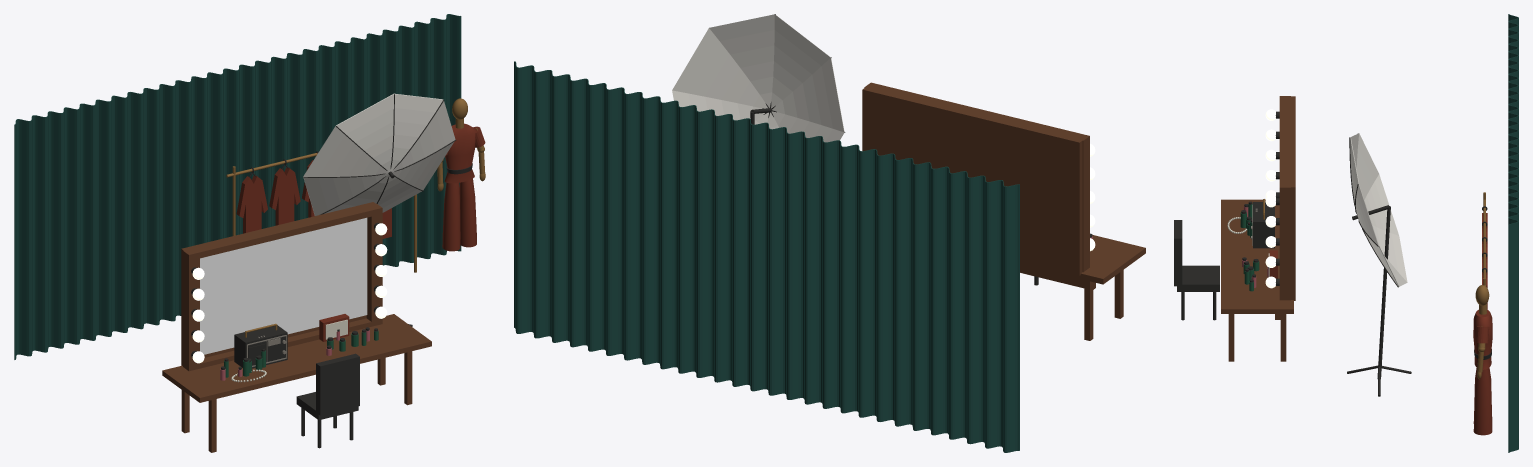
3 renders of one model, left to right at view 1: azimuth 30°, elevation 25°; view 2: azimuth 150°, elevation 25°; view 3: azimuth 270°, elevation 25°, orthographic. The views are drawn at different scales.
Visible parts, largest first — view 1: MIRROR_surface, UMBRELLA_finite_canopy_proxy, TABLE_top, CURTAIN_fold_proxy_0, CURTAIN_fold_proxy_1, CURTAIN_fold_proxy_5, CURTAIN_fold_proxy_4, CURTAIN_fold_proxy_7, CURTAIN_fold_proxy_8, CURTAIN_fold_proxy_2, CURTAIN_fold_proxy_3, CURTAIN_fold_proxy_6 (+34 smaller); view 2: MIRROR_backboard_inferred, UMBRELLA_finite_canopy_proxy, CURTAIN_fold_proxy_4, CURTAIN_fold_proxy_19, CURTAIN_fold_proxy_14, CURTAIN_fold_proxy_24, CURTAIN_fold_proxy_6, CURTAIN_fold_proxy_2, CURTAIN_fold_proxy_1, CURTAIN_fold_proxy_5, CURTAIN_fold_proxy_16, CURTAIN_fold_proxy_26 (+21 smaller); view 3: TABLE_top, UMBRELLA_finite_canopy_proxy, CURTAIN_fold_proxy_27, MIRROR_frame_1, MANNEQUIN_red_bifurcated_lower_proxy_1, CHAIR_seat_proxy, MIRROR_backboard_inferred, MIRROR_frame_horizontal_2.31, COSMETIC_case_body, MANNEQUIN_red_upper_clothing_proxy, UMBRELLA_stand_inferred, CHAIR_back_proxy.
Boxes of the visible parts, box(x1,y1,x2,y2) form: MIRROR_surface: box(200, 217, 367, 354); UMBRELLA_finite_canopy_proxy: box(303, 93, 455, 215); TABLE_top: box(162, 314, 431, 402); CURTAIN_fold_proxy_0: box(14, 119, 30, 359); CURTAIN_fold_proxy_1: box(30, 115, 46, 355); CURTAIN_fold_proxy_5: box(94, 99, 110, 340); CURTAIN_fold_proxy_4: box(78, 103, 94, 344); CURTAIN_fold_proxy_7: box(126, 92, 142, 332); CURTAIN_fold_proxy_8: box(142, 88, 158, 328); CURTAIN_fold_proxy_2: box(46, 111, 62, 351); CURTAIN_fold_proxy_3: box(62, 107, 78, 347); CURTAIN_fold_proxy_6: box(110, 95, 126, 336); MIRROR_backboard_inferred: box(862, 87, 1082, 275); UMBRELLA_finite_canopy_proxy: box(672, 14, 844, 142); CURTAIN_fold_proxy_4: box(929, 162, 947, 435); CURTAIN_fold_proxy_19: box(658, 96, 676, 369); CURTAIN_fold_proxy_14: box(748, 118, 766, 391); CURTAIN_fold_proxy_24: box(568, 74, 586, 347); CURTAIN_fold_proxy_6: box(893, 153, 911, 426); CURTAIN_fold_proxy_2: box(965, 171, 983, 444); CURTAIN_fold_proxy_1: box(983, 176, 1001, 448); CURTAIN_fold_proxy_5: box(911, 158, 929, 430); CURTAIN_fold_proxy_16: box(712, 109, 730, 382); CURTAIN_fold_proxy_26: box(532, 65, 550, 338); TABLE_top: box(1221, 199, 1293, 313); UMBRELLA_finite_canopy_proxy: box(1350, 133, 1407, 286); CURTAIN_fold_proxy_27: box(1508, 217, 1518, 452); MIRROR_frame_1: box(1279, 182, 1290, 300); MANNEQUIN_red_bifurcated_lower_proxy_1: box(1473, 368, 1492, 435); CHAIR_seat_proxy: box(1177, 265, 1219, 291); MIRROR_backboard_inferred: box(1289, 96, 1295, 300); MIRROR_frame_horizontal_2.31: box(1279, 101, 1290, 182); COSMETIC_case_body: box(1253, 202, 1274, 248); MANNEQUIN_red_upper_clothing_proxy: box(1473, 310, 1492, 369); UMBRELLA_stand_inferred: box(1377, 206, 1390, 378); CHAIR_back_proxy: box(1174, 220, 1182, 286).
Bounding box in the file's own units: 6.29 × 3.34 × 4.25.
